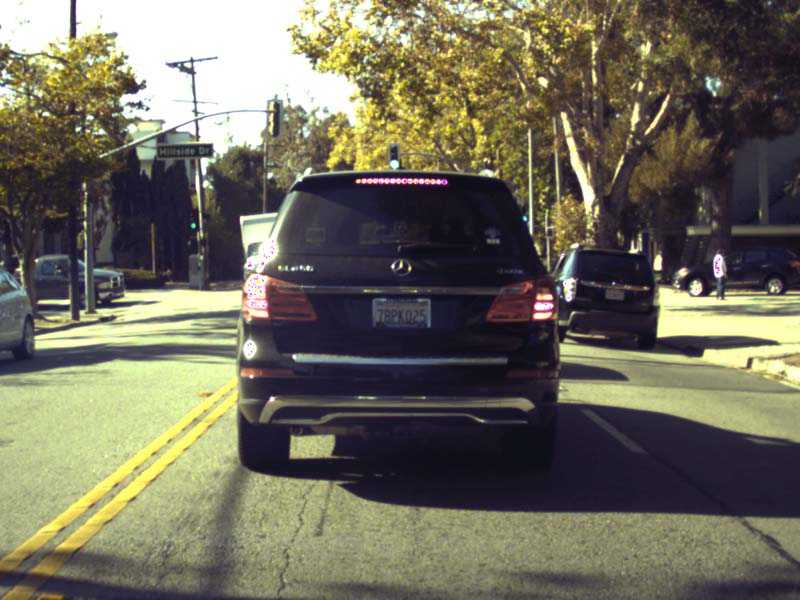Green: (187, 209, 199, 231), (389, 143, 399, 169), (521, 204, 527, 221)
